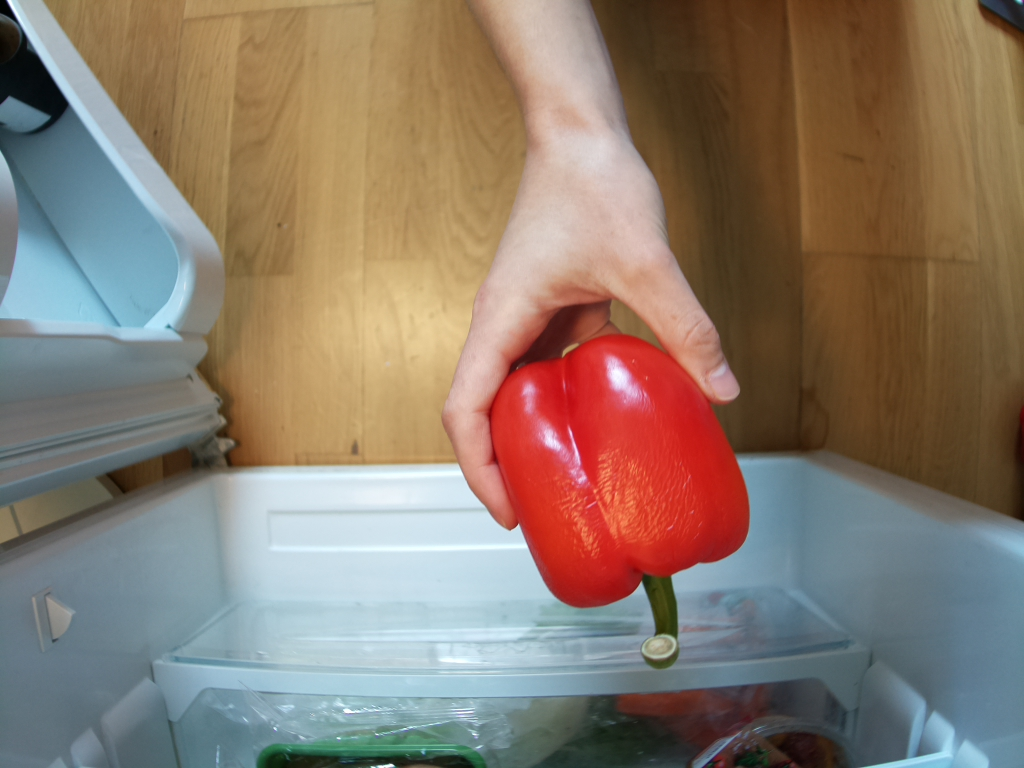pepper-bad: (471, 316, 755, 674)
